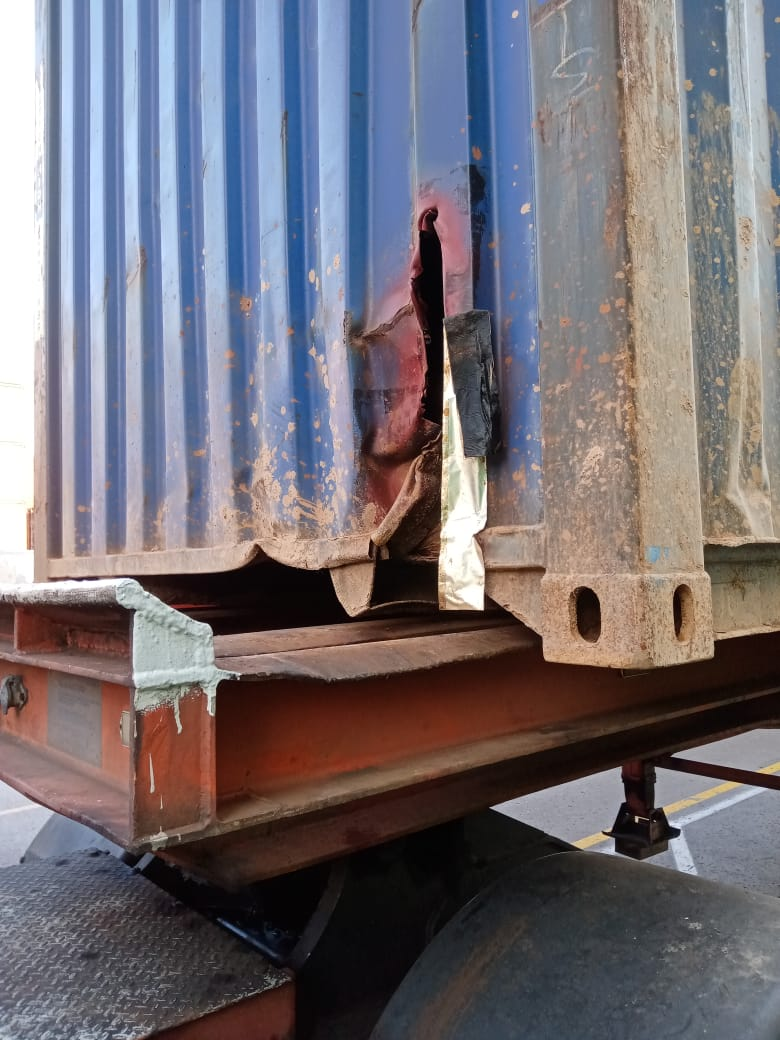cut: (312, 173, 476, 581)
